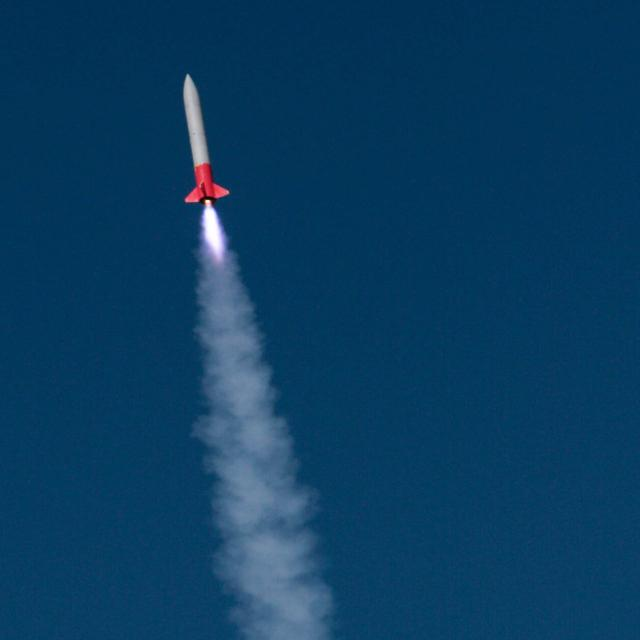Rocket: (182, 72, 232, 207)
